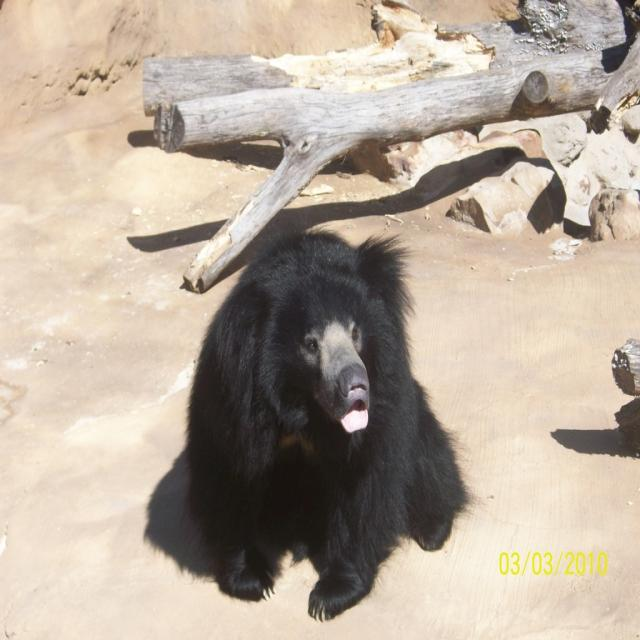Buffalo: (185, 220, 481, 619)
